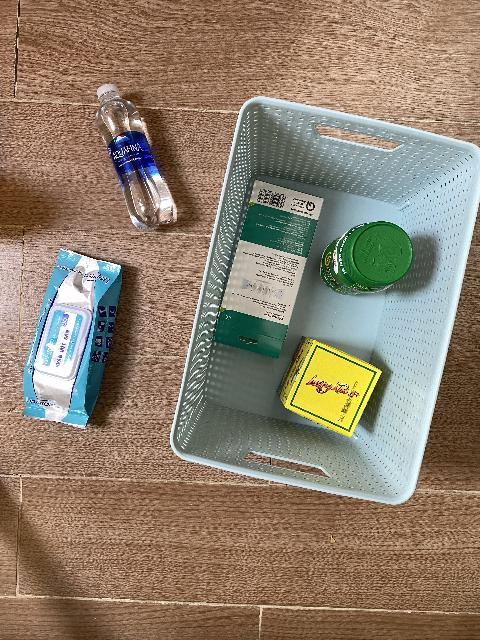4D_medical_face-mask: (213, 179, 324, 360)
Let-green_alcohol_wipes: (21, 248, 123, 430)
aquafina: (95, 84, 173, 231)
cart: (170, 95, 480, 506)
luong_kho: (275, 337, 383, 437)
milo: (319, 221, 413, 295)
